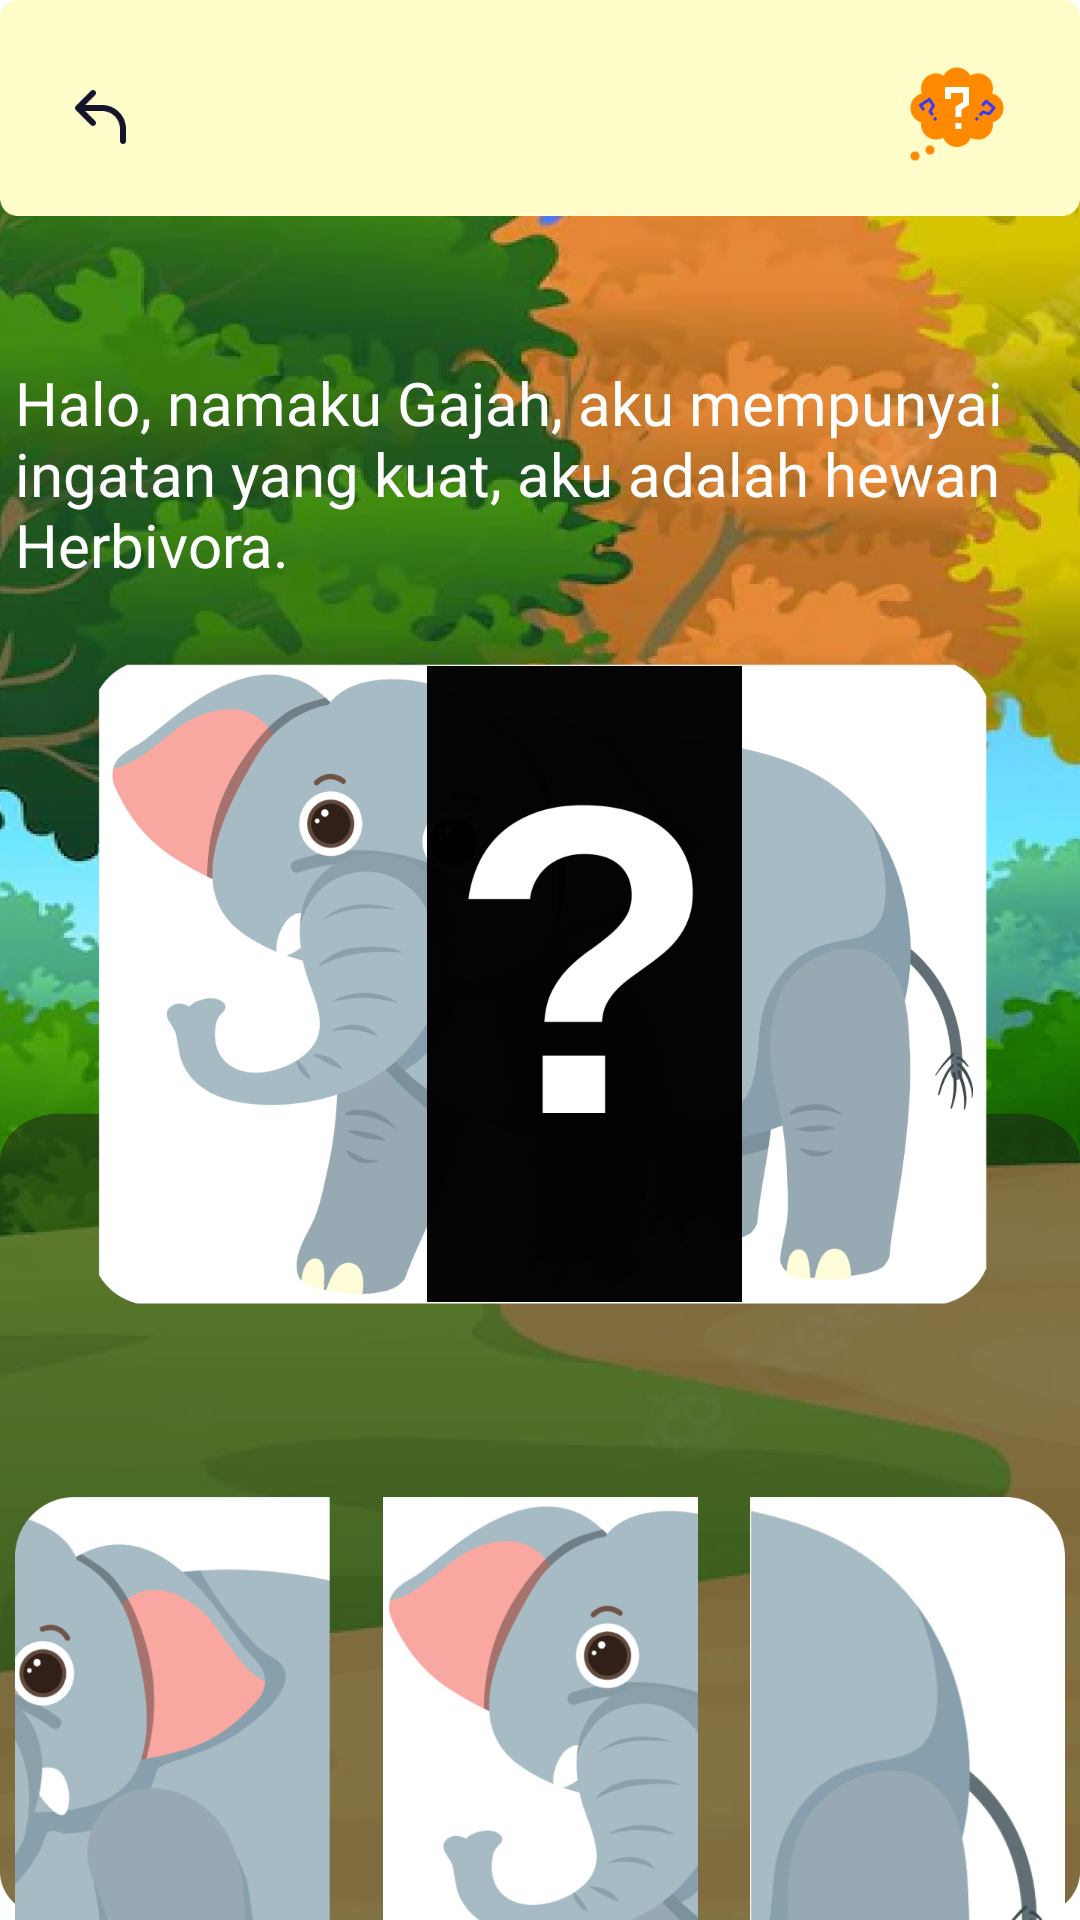

Icons on this 1080px×1920px Android screen, each with its box as {"x1": x1, "y1": y1, "x2": x2, "y2": y2}:
back: {"x1": 75, "y1": 90, "x2": 126, "y2": 144}
help: {"x1": 910, "y1": 67, "x2": 1004, "y2": 161}
